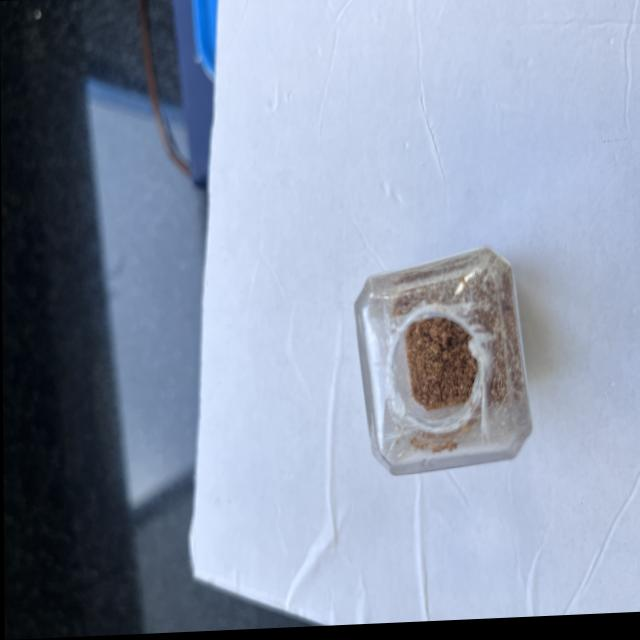maggie_open: (402, 267, 519, 453)
